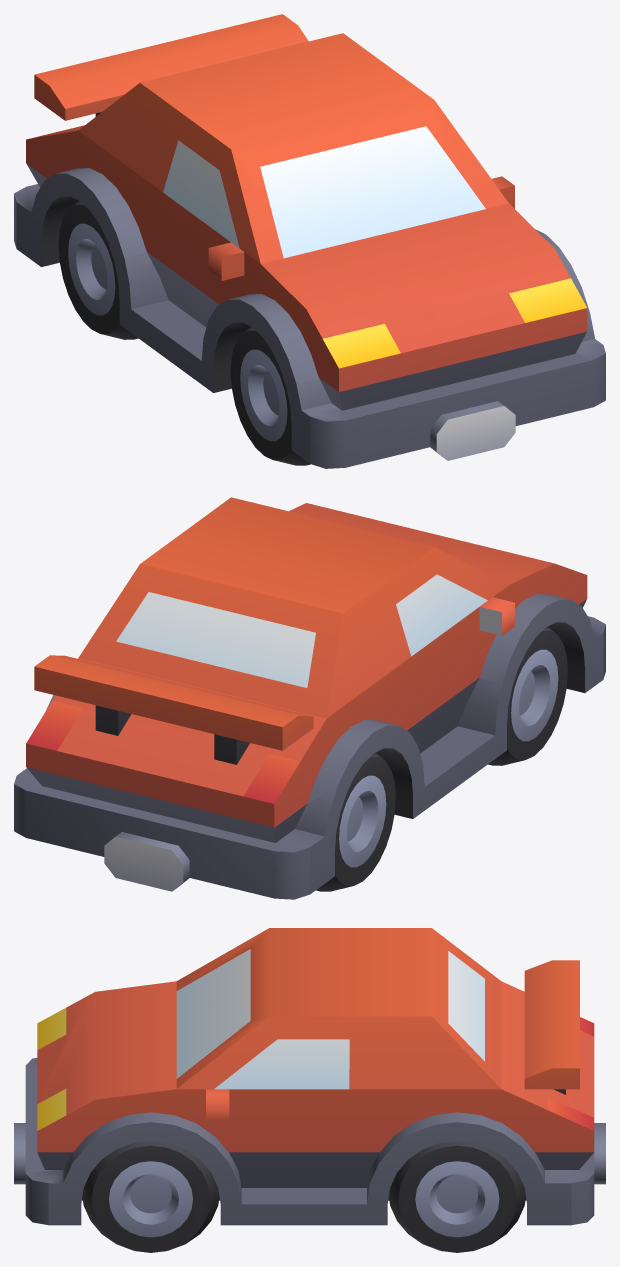
File: car-sedan-sports.obj
3 views of the same model, one above another, from view 1: azimuth 30°, elevation 25°; view 2: azimuth 150°, elevation 25°; view 3: azimuth 270°, elevation 25° (orthographic). The views are drawn at different scales.
Visible parts, largest first — view 1: body, spoiler, wheel-back-right, wheel-front-right; view 2: body, spoiler, wheel-back-right, wheel-front-right; view 3: body, wheel-back-left, wheel-front-left, spoiler.
Boxes of the visible parts, x1=… form: body: x1=14, y1=33, x2=605, y2=468; spoiler: x1=34, y1=14, x2=308, y2=120; wheel-back-right: x1=58, y1=200, x2=138, y2=339; wheel-front-right: x1=230, y1=326, x2=310, y2=465; body: x1=14, y1=497, x2=605, y2=899; spoiler: x1=34, y1=655, x2=313, y2=764; wheel-back-right: x1=316, y1=752, x2=395, y2=891; wheel-front-right: x1=488, y1=626, x2=567, y2=765; body: x1=14, y1=928, x2=605, y2=1225; wheel-back-left: x1=389, y1=1141, x2=525, y2=1252; wheel-front-left: x1=82, y1=1141, x2=219, y2=1252; spoiler: x1=524, y1=960, x2=579, y2=1094.
Bounding box in the file's own units: 1.3 × 1.1 × 2.55.
